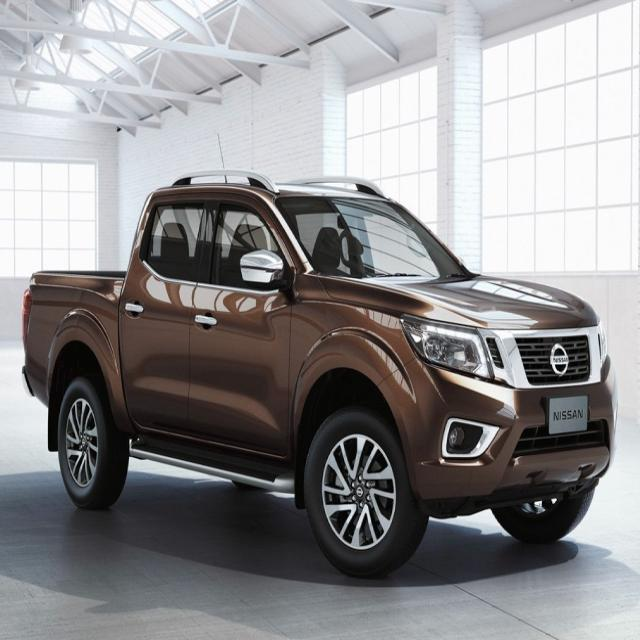back_right_side_light: (20, 285, 34, 349)
door: (115, 195, 217, 434)
front_bumper: (376, 353, 618, 520)
front_glass: (273, 193, 470, 286)
front_left_side_light: (594, 315, 608, 378)
front_right_side_door: (186, 187, 296, 465)
front_right_side_light: (398, 310, 497, 383)
front_right_side_mirror: (240, 248, 288, 292)
wheel: (304, 403, 429, 578), (56, 374, 129, 509), (492, 478, 596, 540)
